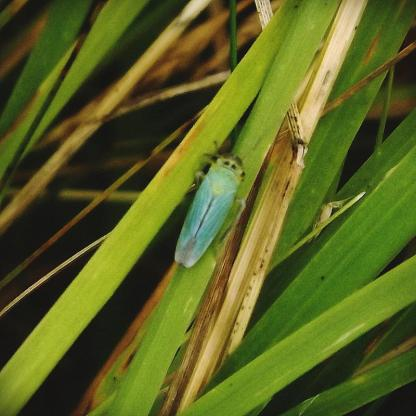Green-Leafhopper: (169, 145, 252, 270)
